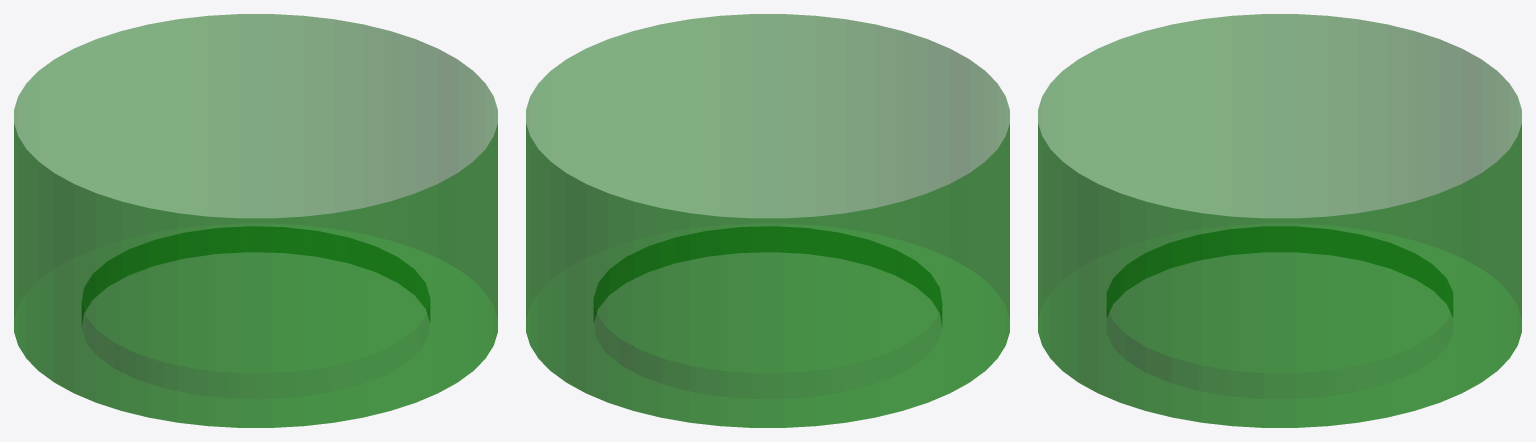
Rendered from stg125_boss.stg125_A_hit.obj.
3 views of the same model, side by side, from view 1: azimuth 30°, elevation 25°; view 2: azimuth 150°, elevation 25°; view 3: azimuth 270°, elevation 25° (orthographic).
Bounding box in the file's own units: 47.52 × 22.71 × 47.52.
